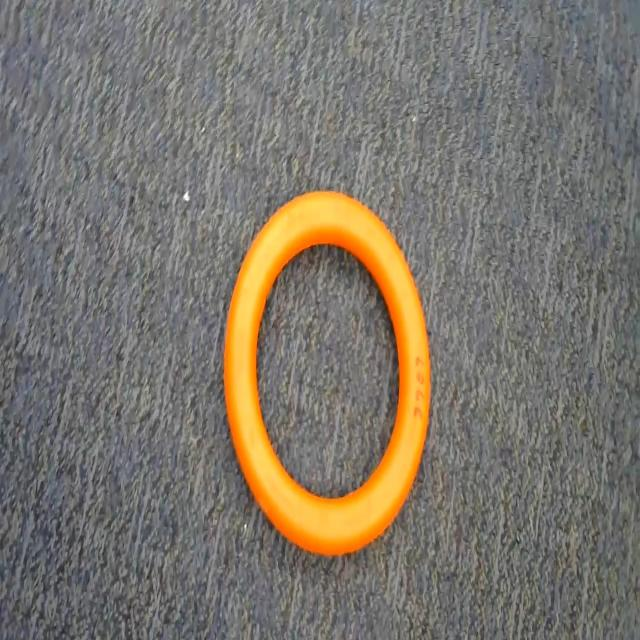note: (209, 178, 457, 572)
